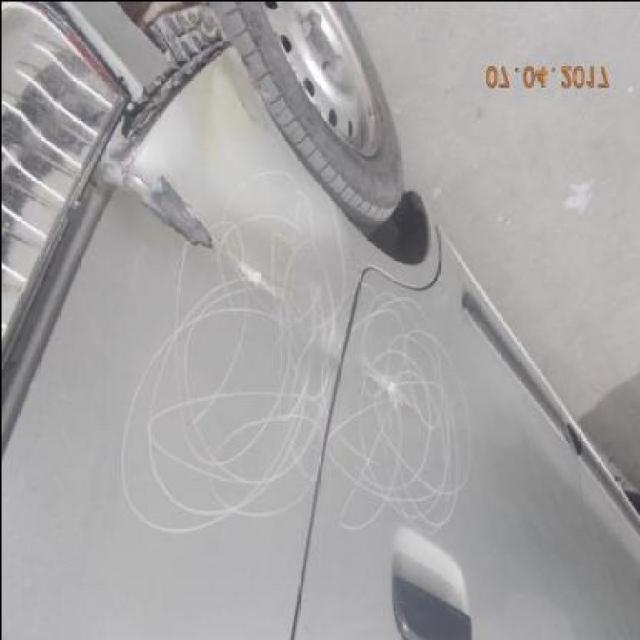damage: (2, 0, 230, 458), (123, 157, 222, 251), (225, 251, 302, 313), (361, 360, 424, 415), (228, 89, 264, 131)
